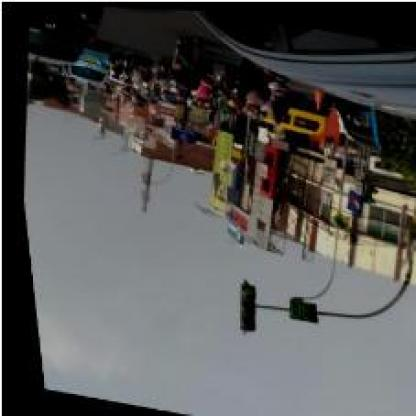green: (224, 281, 252, 331)
